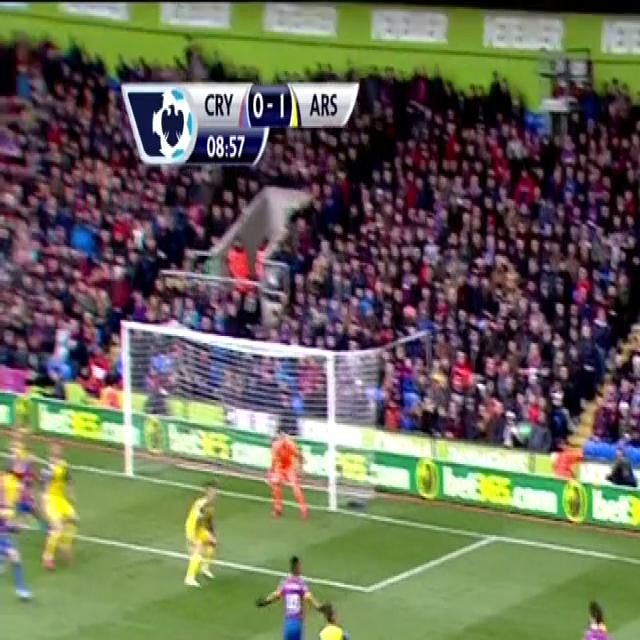goalkeeper: (258, 420, 316, 526)
soccer-player: (250, 546, 335, 640), (168, 480, 226, 602), (37, 457, 92, 582), (0, 499, 38, 614), (560, 599, 634, 640), (310, 601, 375, 640)
